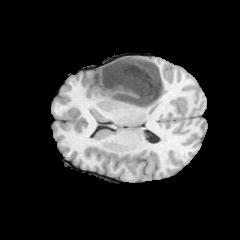glioma: (91, 56, 168, 111)
